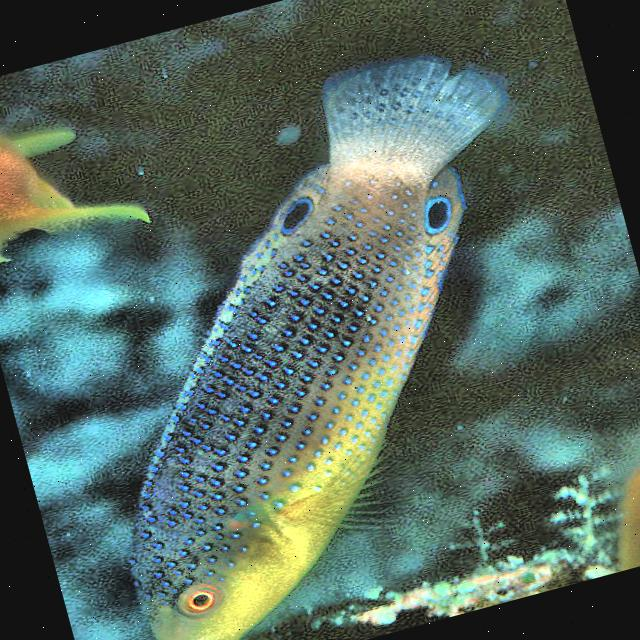fish: (17, 29, 633, 640), (0, 67, 152, 273)
